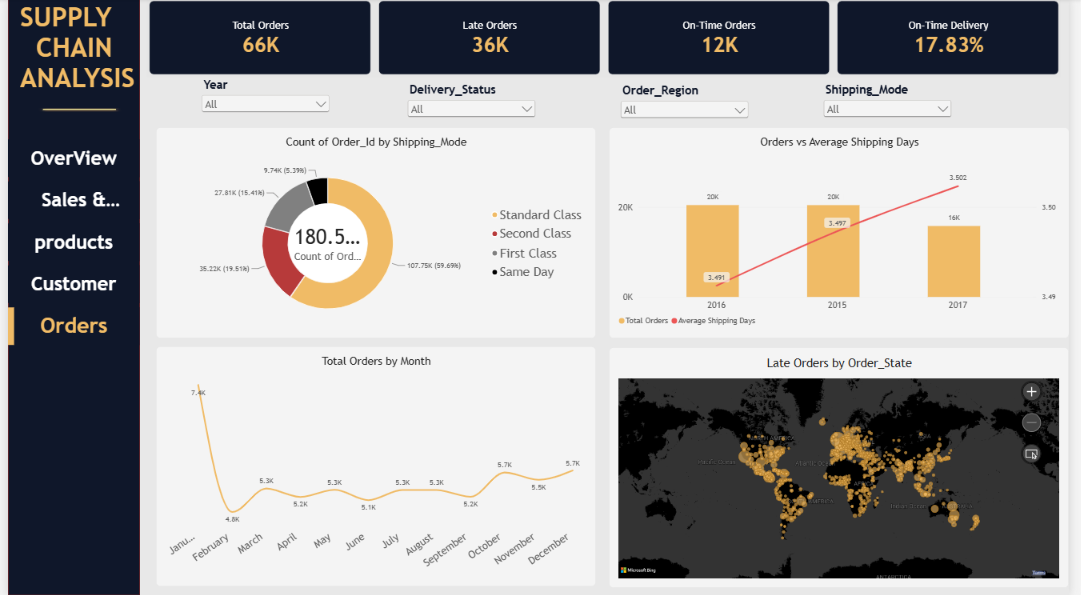

The dashboard page shown, as its layout file describes it:
{"tool":"powerbi","page":{"name":"Orders","canvas":[1920,1080],"ordinal":4},"visuals":[{"type":"shape","box":[0,0,238.9,1080.4],"z":0},{"type":"textbox","box":[21.7,5.4,244.3,199.1],"z":1},{"type":"pageNavigator","box":[0,254.8,238.1,376.2],"z":2},{"type":"shape","box":[54.3,191.8,150.2,12.7],"z":3},{"type":"slicer","fields":{"Values":["Date.Date.Variation.Date Hierarchy.Year"]},"box":[345.2,142.9,240.9,257.5],"z":4},{"type":"slicer","fields":{"Values":["Dim_Location.Order_Region"]},"box":[1104.5,154.5,240.9,257.5],"z":5},{"type":"slicer","fields":{"Values":["Fact_Table.Shipping_Mode"]},"box":[1470.5,152.3,240.9,257.5],"z":6},{"type":"slicer","fields":{"Values":["Dim_Delivery_Statuses.Delivery_Status"]},"box":[718.2,152.3,240.9,238.6],"z":7},{"type":"cardVisual","fields":{"Data":["Table.Total Orders","Table.Late Orders","Table.On-Time Orders","Table.On-Time Delivery %"]},"box":[251.5,0,1657.6,143],"z":8},{"type":"donutChart","fields":{"Category":["Dim_Delivery_Statuses.Delivery_Status"],"Y":["CountNonNull(Fact_Table.Order_Id)"]},"box":[267.3,232.7,795.9,381.6],"z":10},{"type":"lineClusteredColumnComboChart","title":"Orders vs Average Shipping Days","fields":{"Category":["Date.Year"],"Y":["Table.Total Orders"],"Y2":["Table.Average Shipping Days"]},"box":[1087.8,232.7,832.7,381.6],"z":11},{"type":"lineChart","fields":{"Category":["Date.Date.Variation.Date Hierarchy.Year","Date.Date.Variation.Date Hierarchy.Quarter","Date.Date.Variation.Date Hierarchy.Month"],"Y":["Table.Total Orders"]},"box":[267.3,630.6,795.9,434.7],"z":12},{"type":"map","fields":{"Category":["Fact_Table.Order_State"],"Size":["Table.Late Orders"]},"box":[1088,631,832,435],"z":13}]}

Visuals, with their boxes in screenshot pixels (x1, y1, x2, y2), scaled from the page's 1920x1080 canvas onto the 1081x595 screenshot:
shape: 0, 0, 135, 594
textbox: 12, 3, 150, 113
pageNavigator: 0, 140, 134, 348
shape: 31, 106, 115, 113
slicer - Date.Date.Variation.Date Hierarchy.Year: 194, 79, 330, 221
slicer - Dim_Location.Order_Region: 622, 85, 757, 227
slicer - Fact_Table.Shipping_Mode: 828, 84, 964, 226
slicer - Dim_Delivery_Statuses.Delivery_Status: 404, 84, 540, 215
cardVisual - Table.Total Orders x Table.Late Orders: 142, 0, 1075, 79
donutChart - Dim_Delivery_Statuses.Delivery_Status x CountNonNull(Fact_Table.Order_Id): 150, 128, 599, 338
"Orders vs Average Shipping Days" lineClusteredColumnComboChart: 612, 128, 1080, 338
lineChart - Date.Date.Variation.Date Hierarchy.Year x Date.Date.Variation.Date Hierarchy.Quarter: 150, 347, 599, 587
map - Fact_Table.Order_State x Table.Late Orders: 613, 348, 1080, 587
